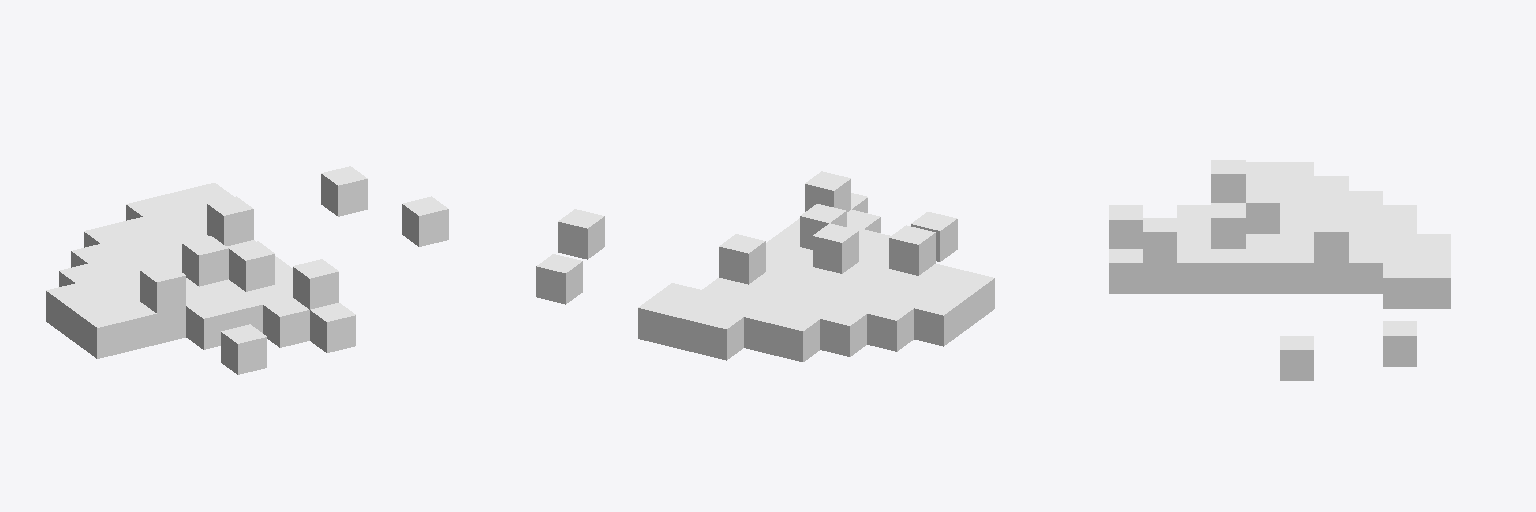
The model's file is pizza0d.obj.
The picture shows the model from 3 angles: view 1: azimuth 30°, elevation 25°; view 2: azimuth 150°, elevation 25°; view 3: azimuth 270°, elevation 25°; orthographic projection.
Size of the model in its own units: 0.65 by 0.1 by 0.5.